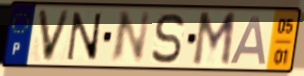A: (228, 14, 269, 66)
M: (190, 10, 238, 69)
N: (107, 10, 153, 66), (65, 10, 104, 63)
S: (150, 11, 187, 65)
V: (36, 7, 73, 64)
